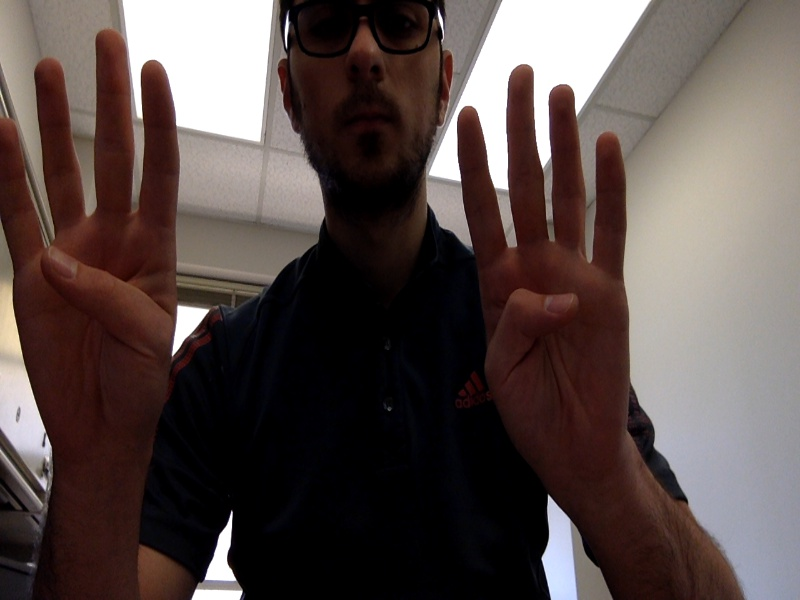4-hand: (2, 32, 178, 455), (456, 64, 631, 480)
